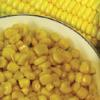corn: (0, 23, 99, 98), (0, 0, 99, 48)
